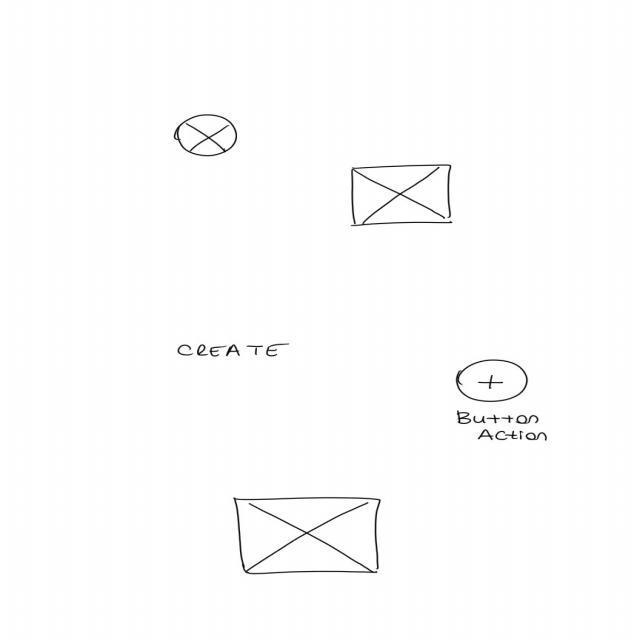icon-button: (457, 359, 532, 403)
image: (234, 497, 384, 576), (350, 164, 456, 229), (175, 114, 240, 158)
label: (457, 411, 553, 444), (179, 344, 292, 359)
